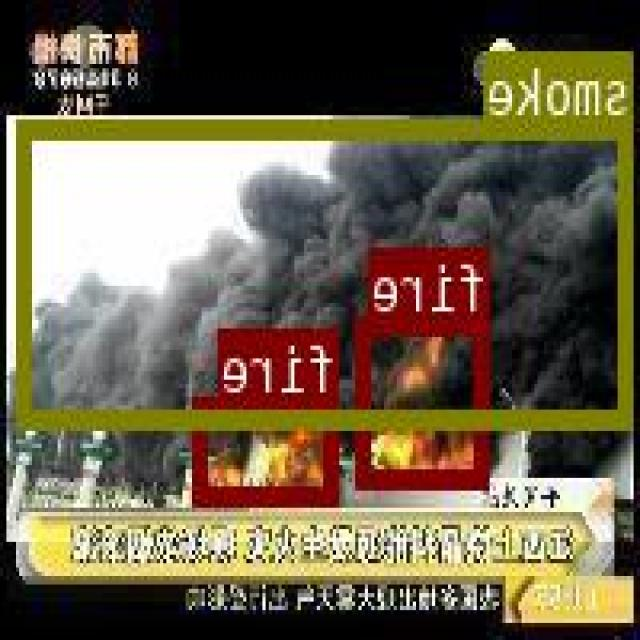fire: (360, 312, 490, 486), (197, 394, 341, 503)
smoke: (21, 115, 634, 423)
